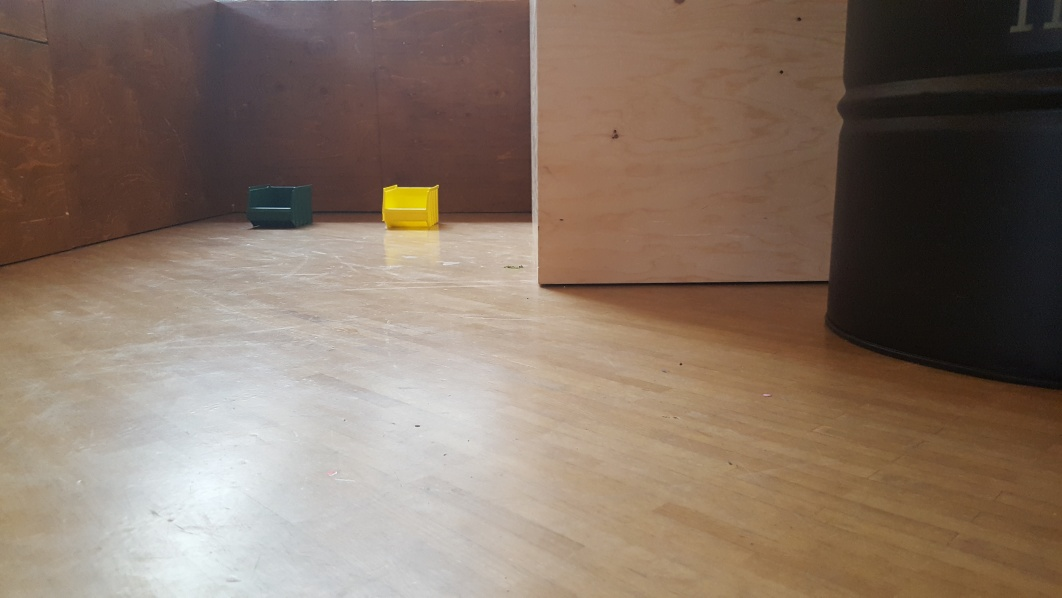tray: (241, 182, 318, 228), (373, 184, 443, 227)
